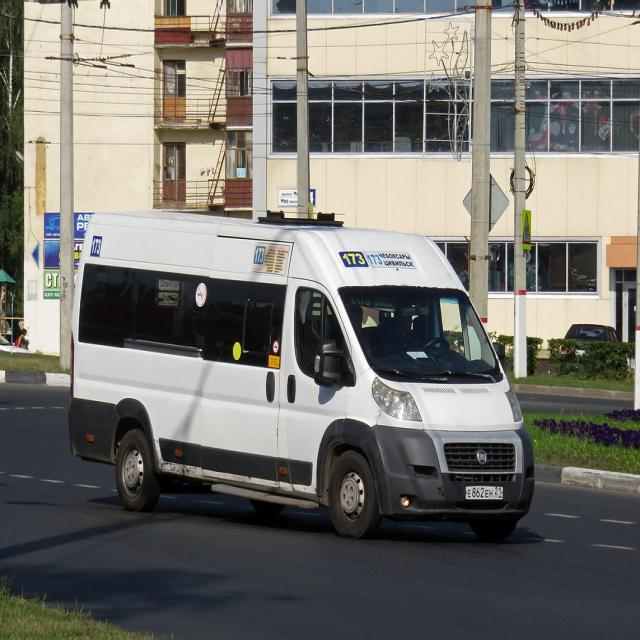number-of-bus: (343, 250, 371, 272)
